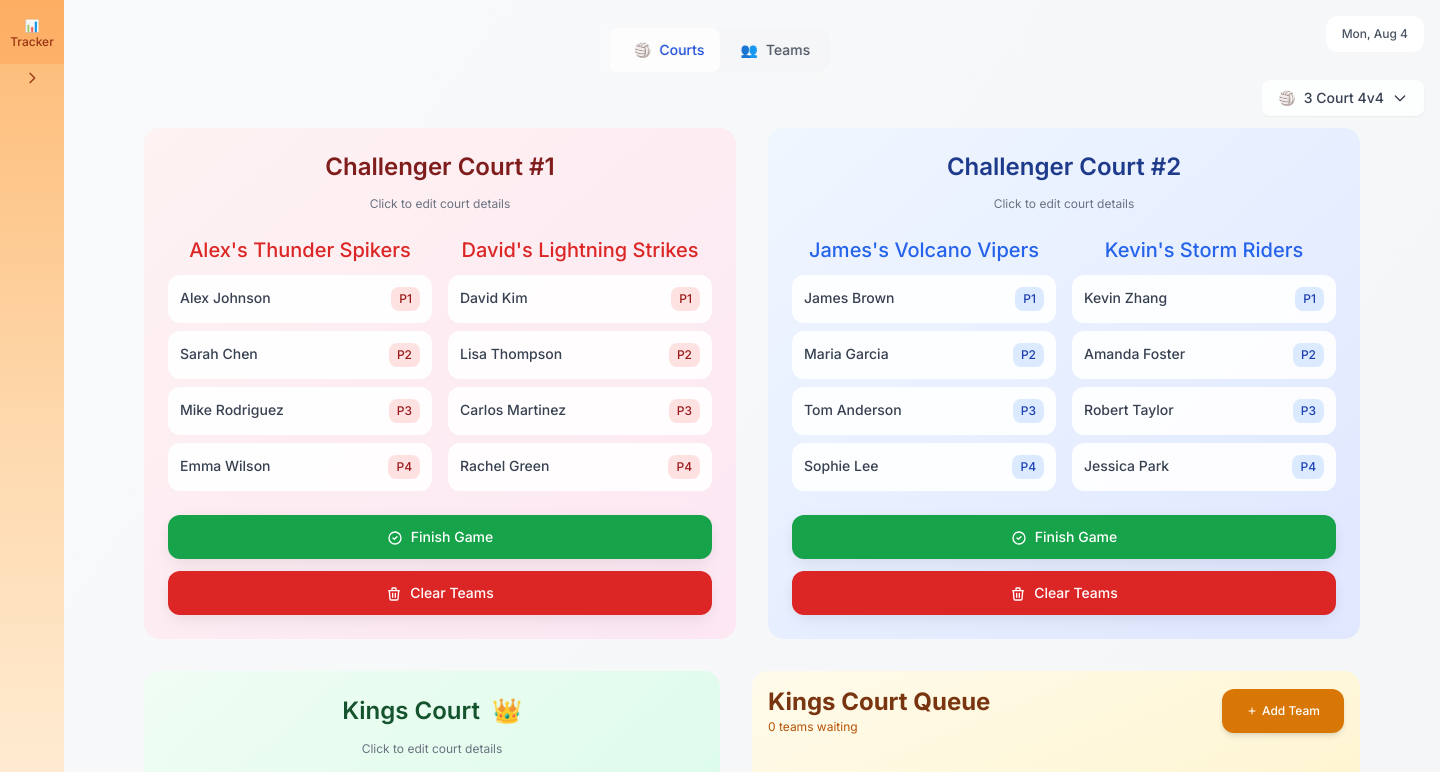
Scenario: App Integration › should open and close the Add Team modal
Note: Switch to Teams view
Click the button with aria-label "view teams page".
click(775, 50)  # box x1=724 y1=32 x2=826 y2=68
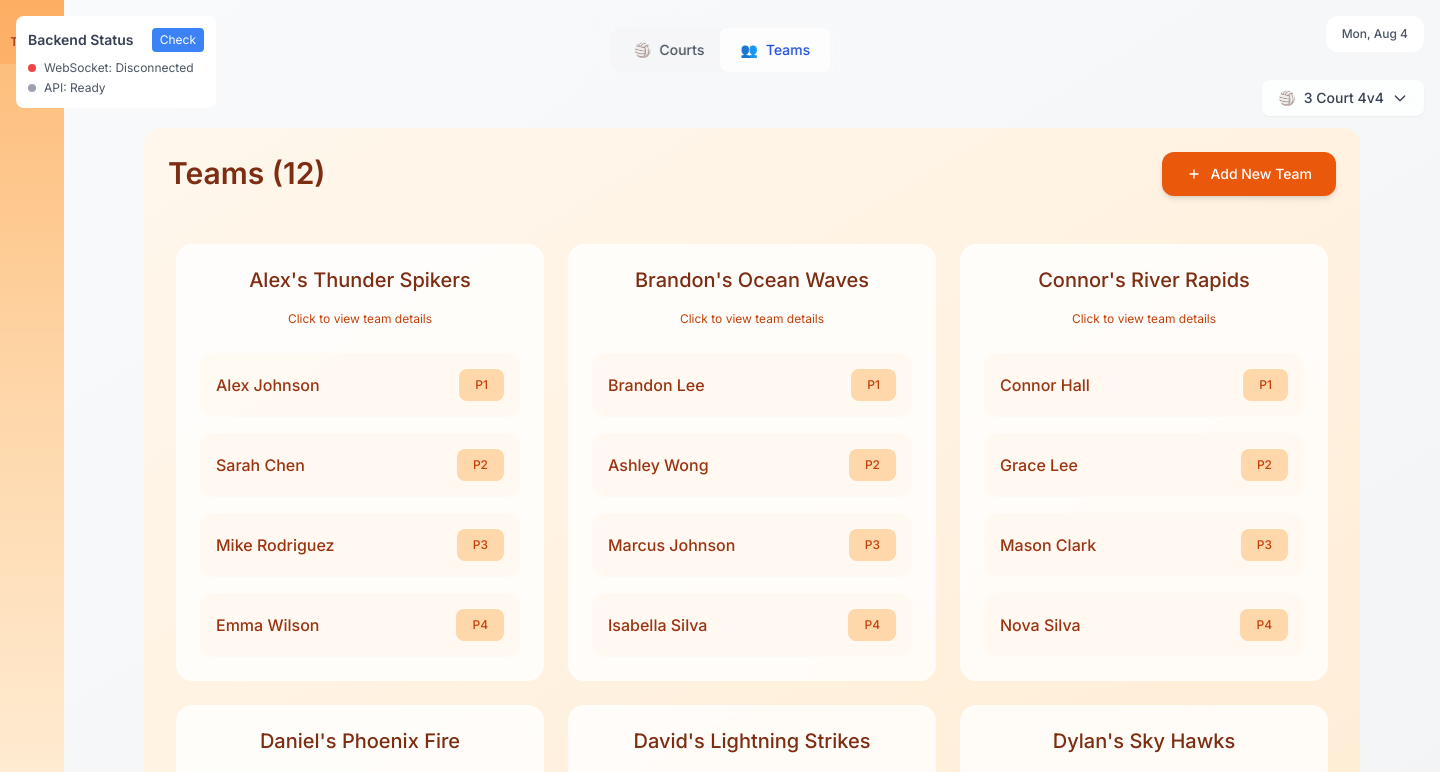
Check: the button "Add New Team" is shown
Note: Open modal
Click the button "Add New Team".
click(1249, 174)  # box x1=1162 y1=152 x2=1336 y2=196
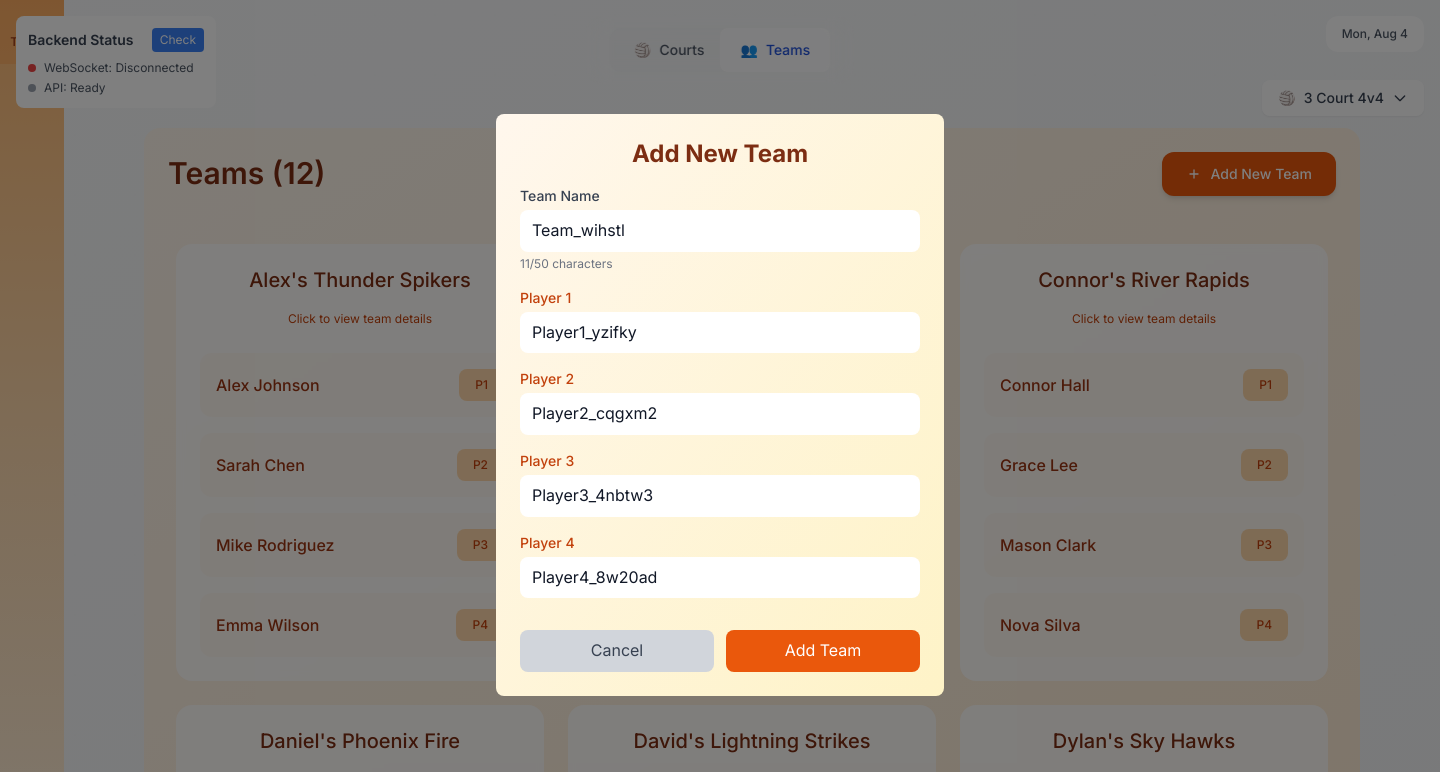
Check: the field labelled "Team Name" is shown, box x1=520 y1=210 x2=920 y2=252
Note: Close modal
Click the button "Cancel".
click(617, 651)  # box x1=520 y1=630 x2=714 y2=672
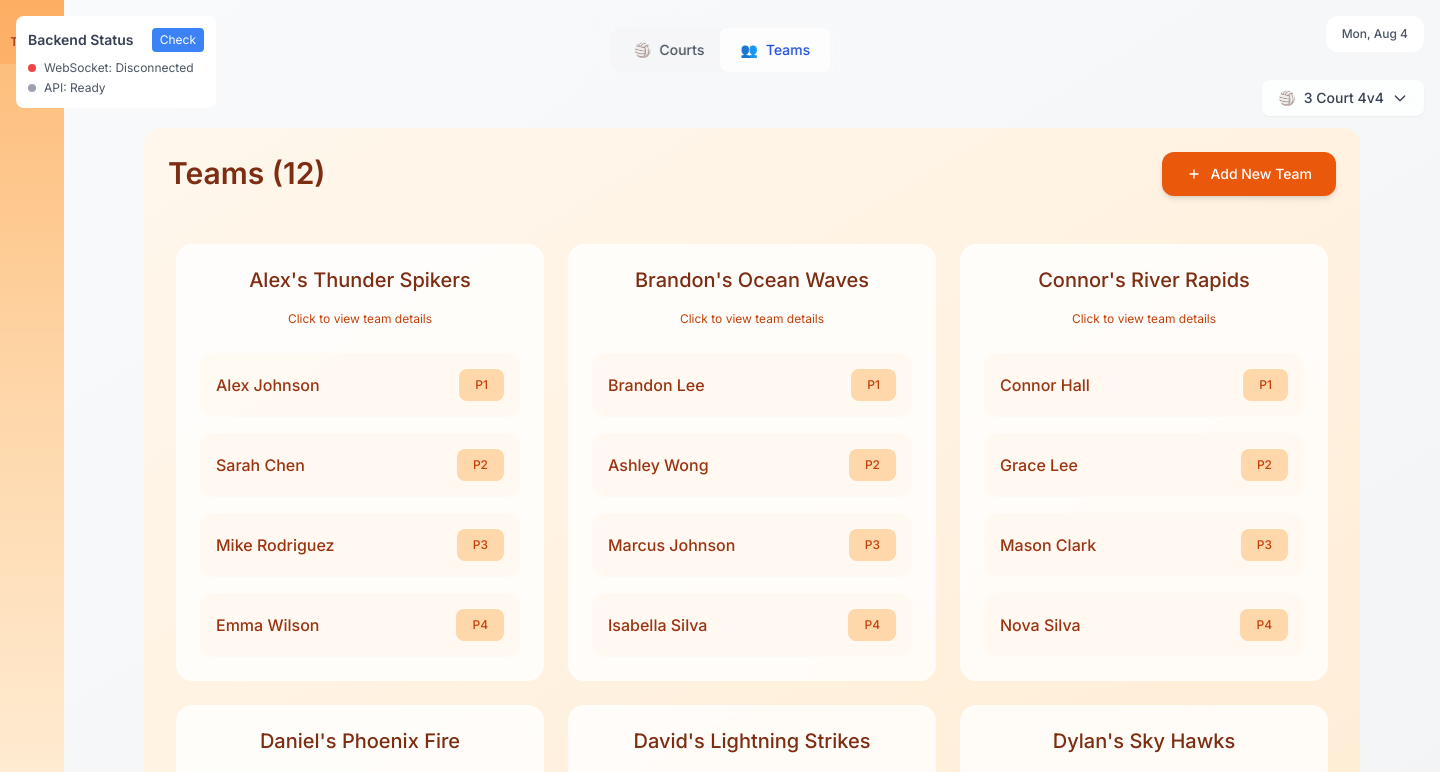
Check: the label labelled "Team Name" is gone
